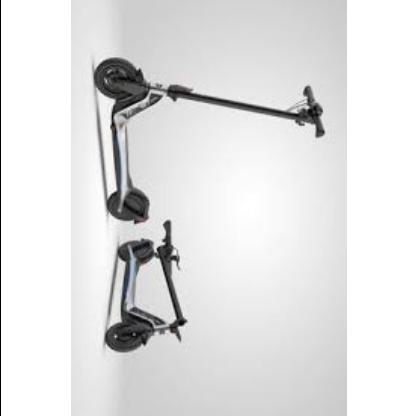bike: (93, 56, 327, 354)
